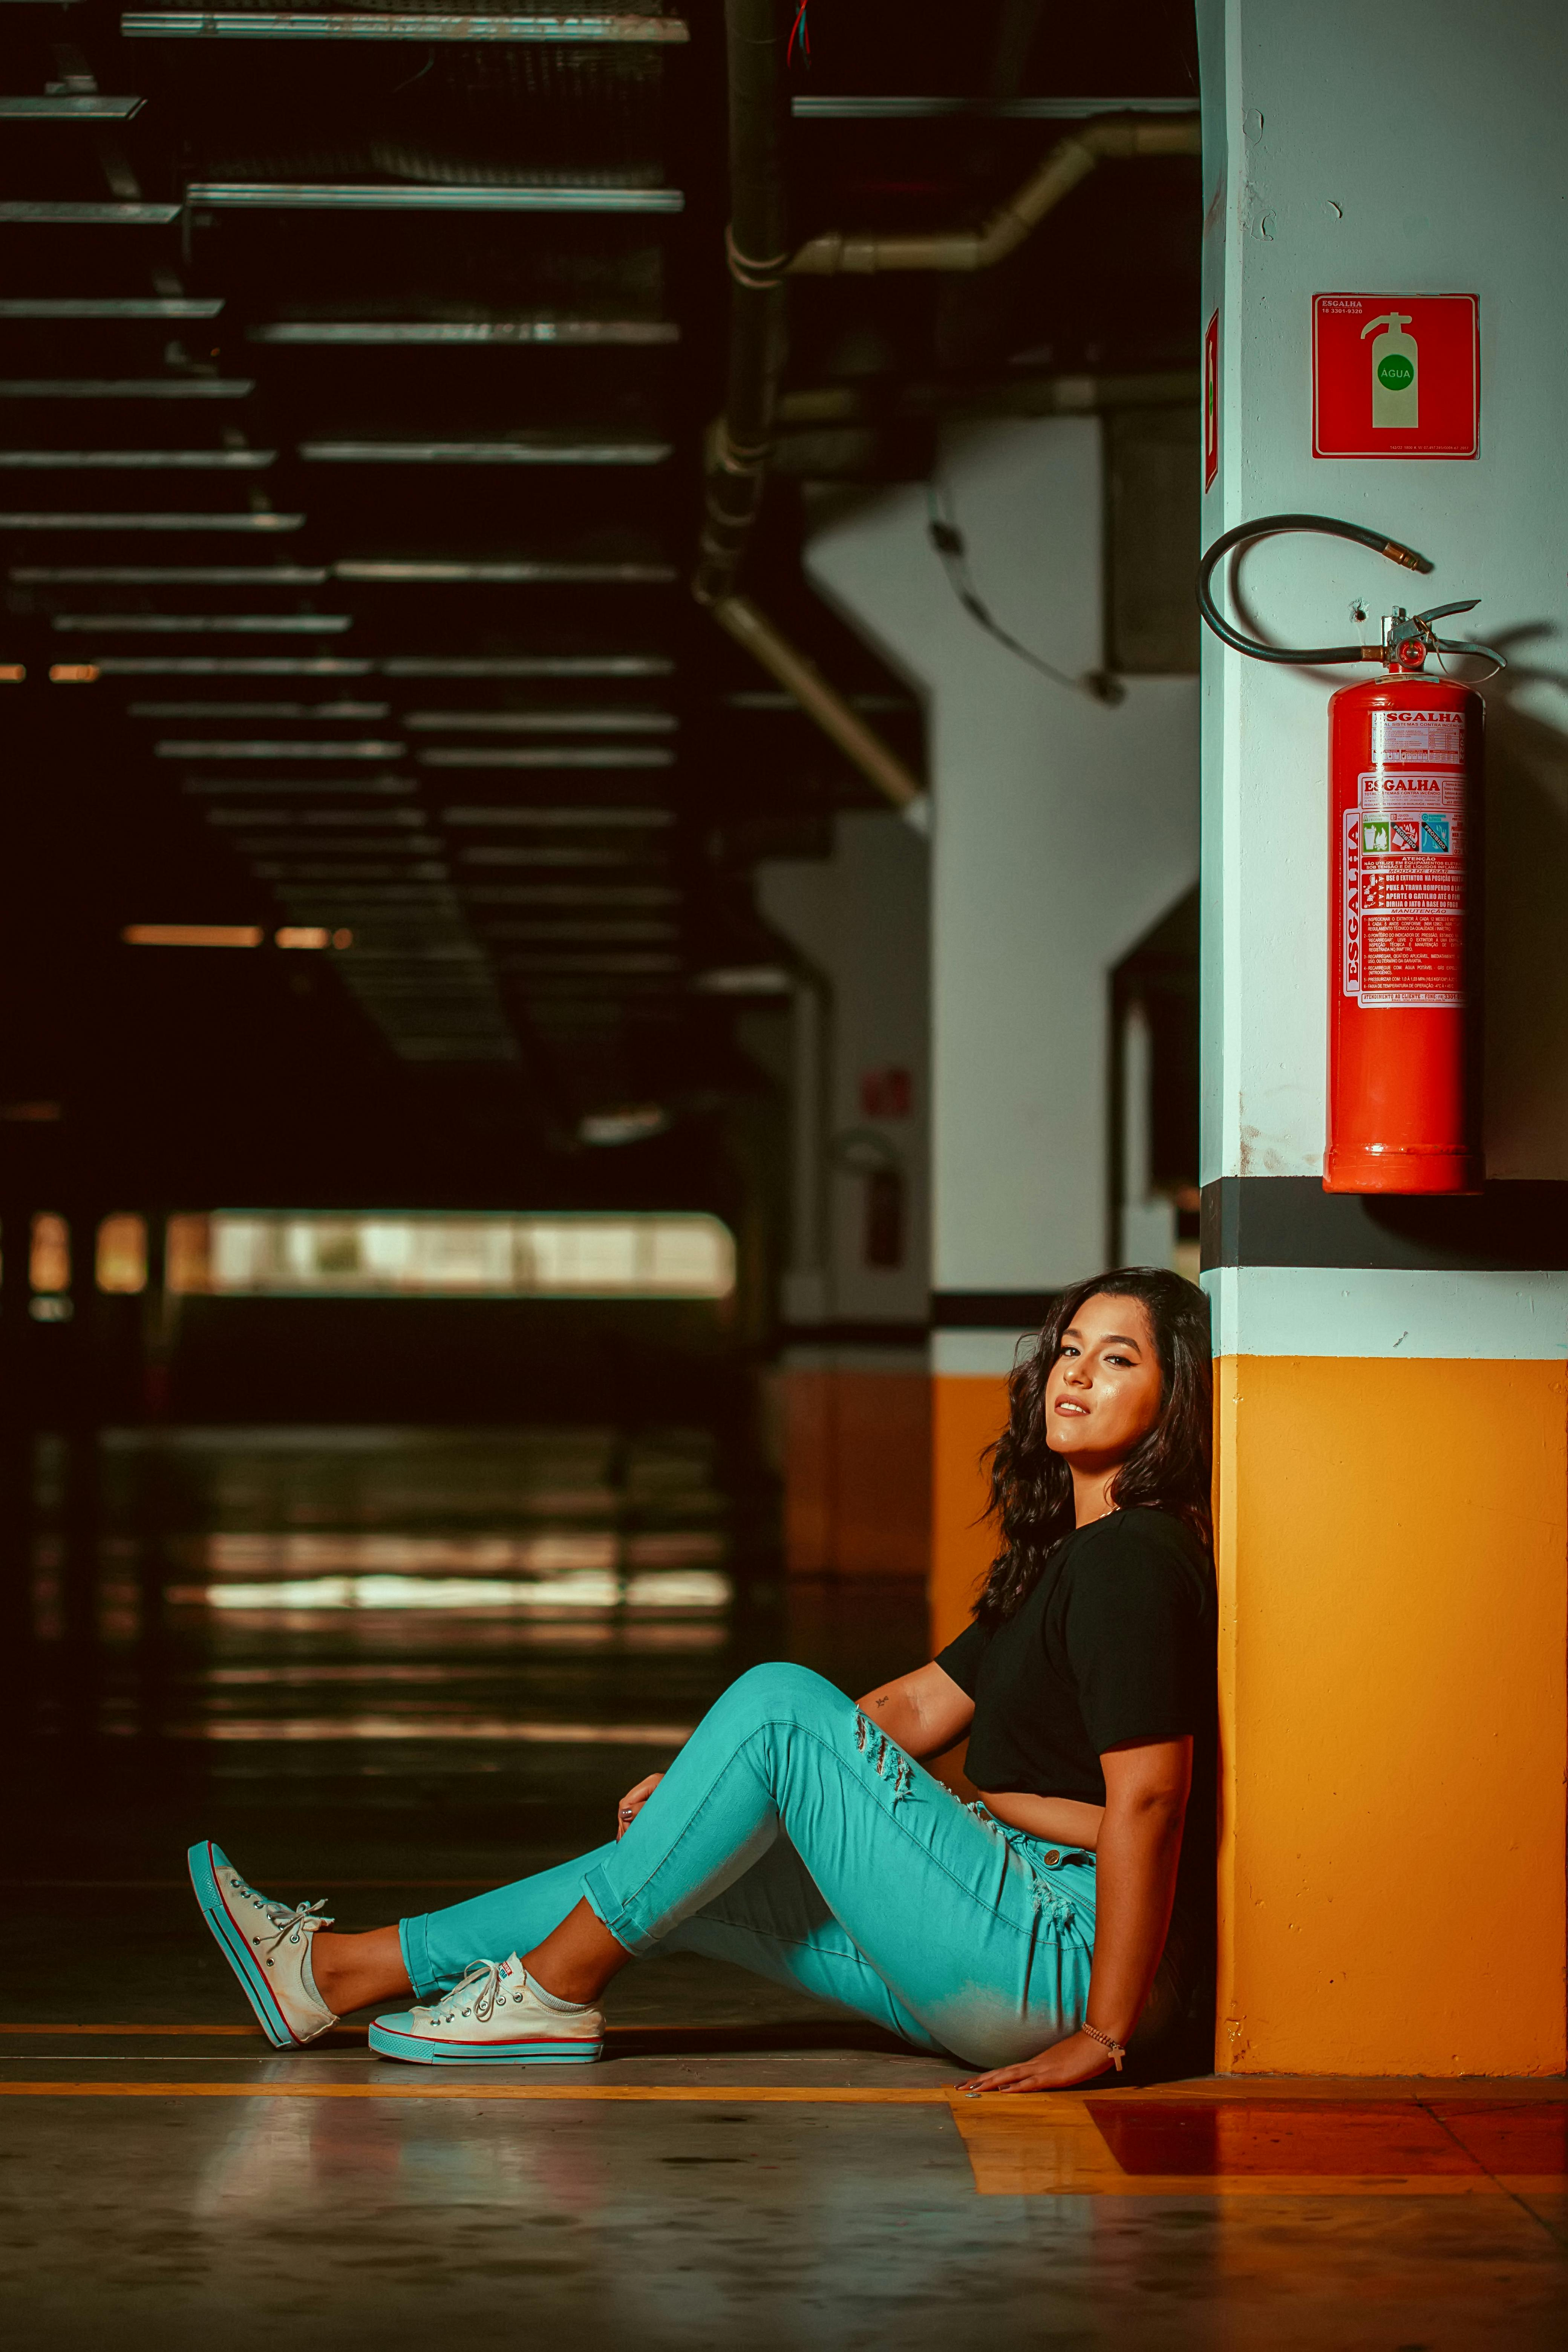extintor: (1307, 586, 1521, 1209)
